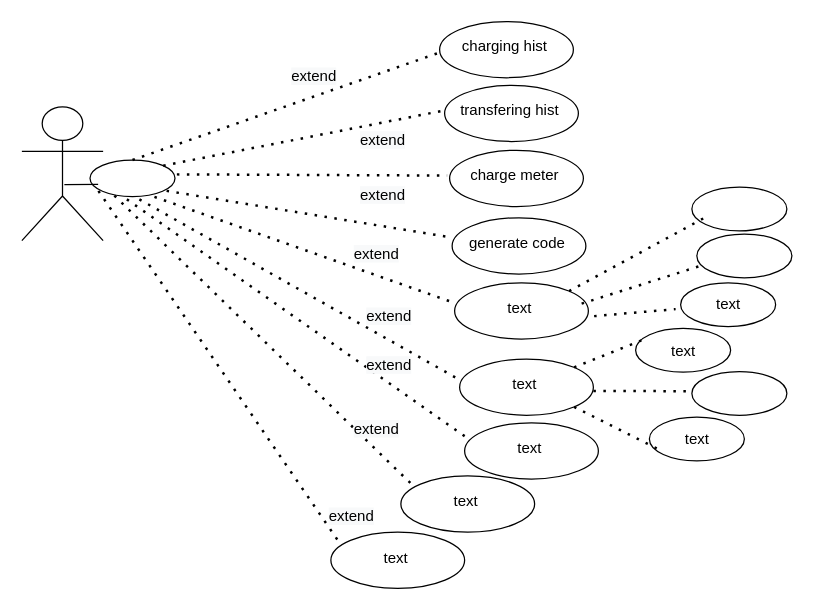
This 814x611 diagram has some shape labels left out. Each missing label, with the centre of its shape:
login: point (132, 178)
user: point (62, 173)
